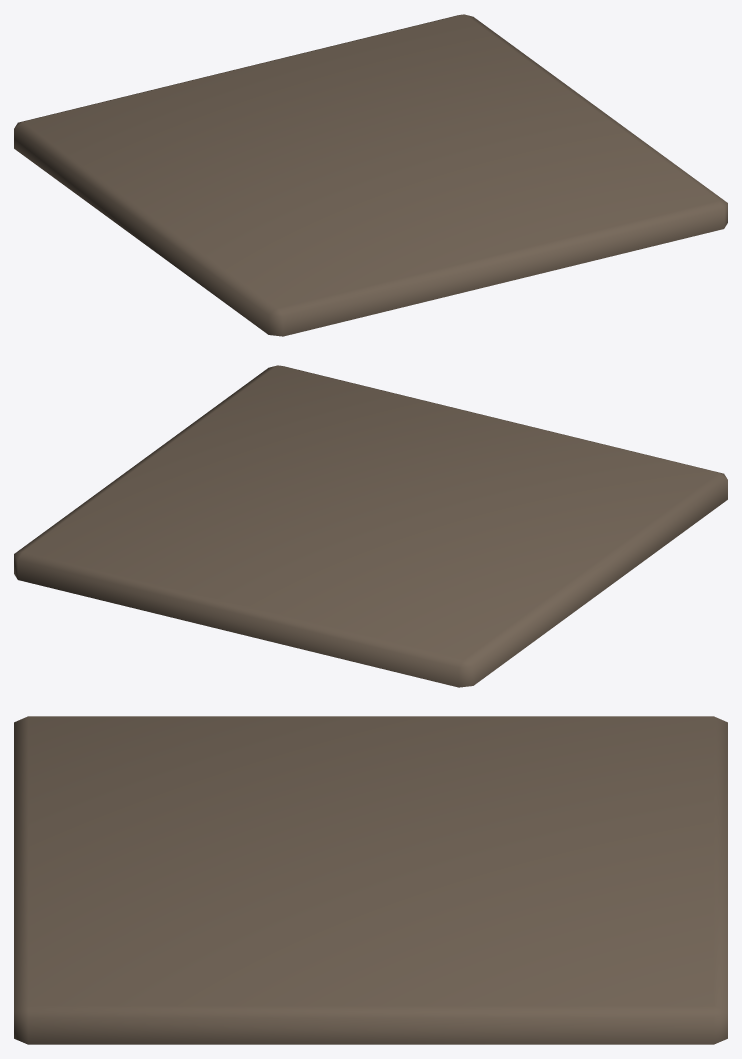
File: SwitchBase.fbx
The picture shows the model from 3 angles, top to bottom: view 1: azimuth 30°, elevation 25°; view 2: azimuth 150°, elevation 25°; view 3: azimuth 270°, elevation 25°; orthographic projection. The views are drawn at different scales.
Visible parts, largest first — view 1: SwitchBase.003; view 2: SwitchBase.003; view 3: SwitchBase.003.
Part boxes in pixels (x1=…): SwitchBase.003: x1=14, y1=14, x2=727, y2=336; SwitchBase.003: x1=14, y1=365, x2=727, y2=687; SwitchBase.003: x1=14, y1=716, x2=727, y2=1044.
Bounding box in the file's own units: 133 × 6.76 × 133.
